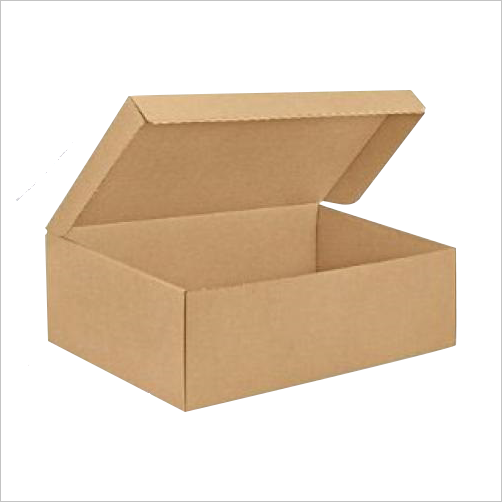Rec_Paper: (33, 74, 467, 421)
